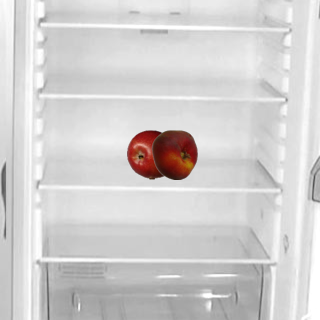Apple Braeburn: (126, 129, 176, 179)
Nectarine Flat: (149, 129, 199, 179)
